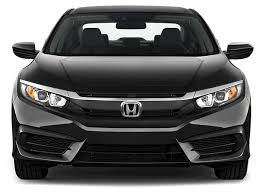Honda: (10, 2, 255, 181)
